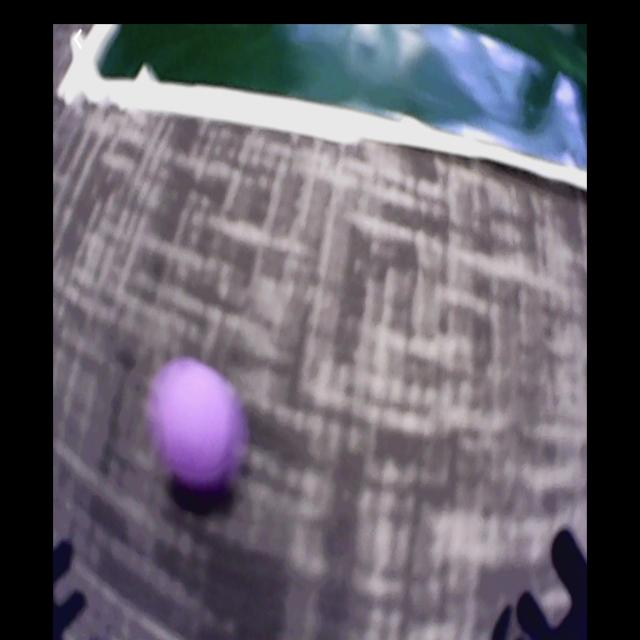ball: (157, 360, 241, 486)
